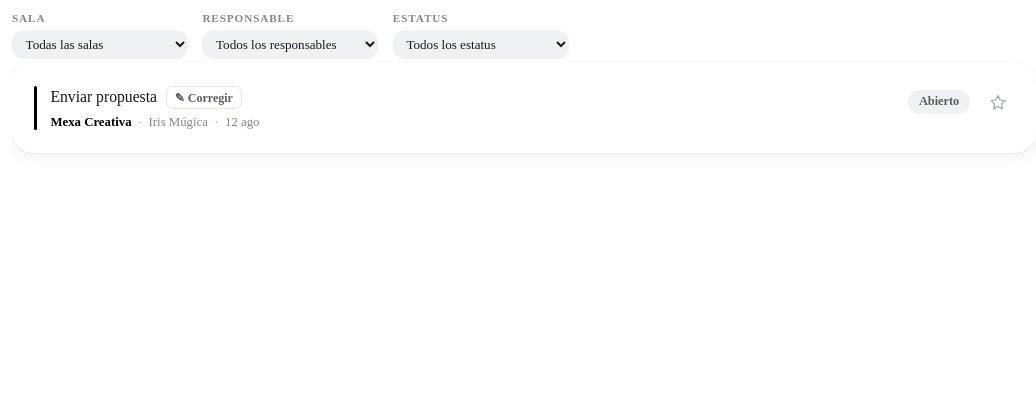
Test: TablaAcuerdos › editar y eliminar desde la pestaña › editor sin admin (estatus y fecha, sin eliminar): el editor completo no ofrece borrar
The image size is (1036, 396).
Step 1. Click the button "✎ Corregir" → (204, 98), box [166,86,242,109]
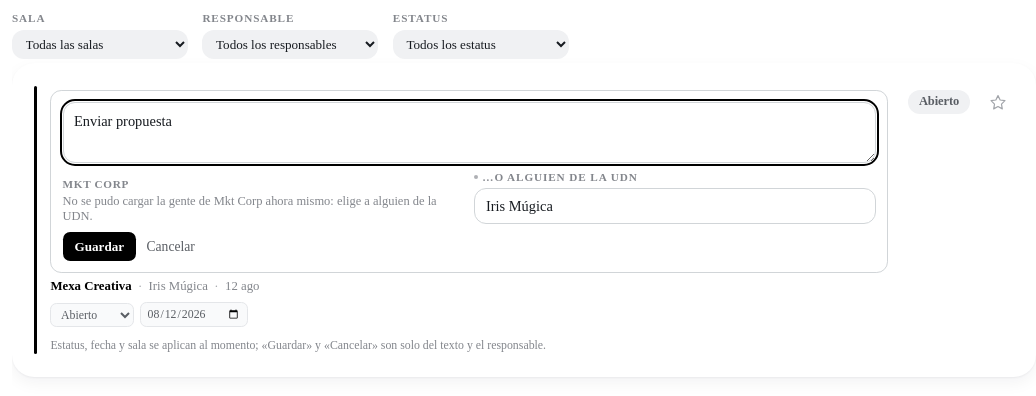
Expected: the dropdown named "cambiar estatus" is shown, [50,302,134,327]
